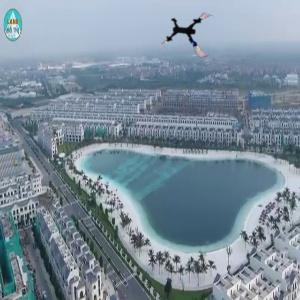drone: (166, 7, 217, 58)
